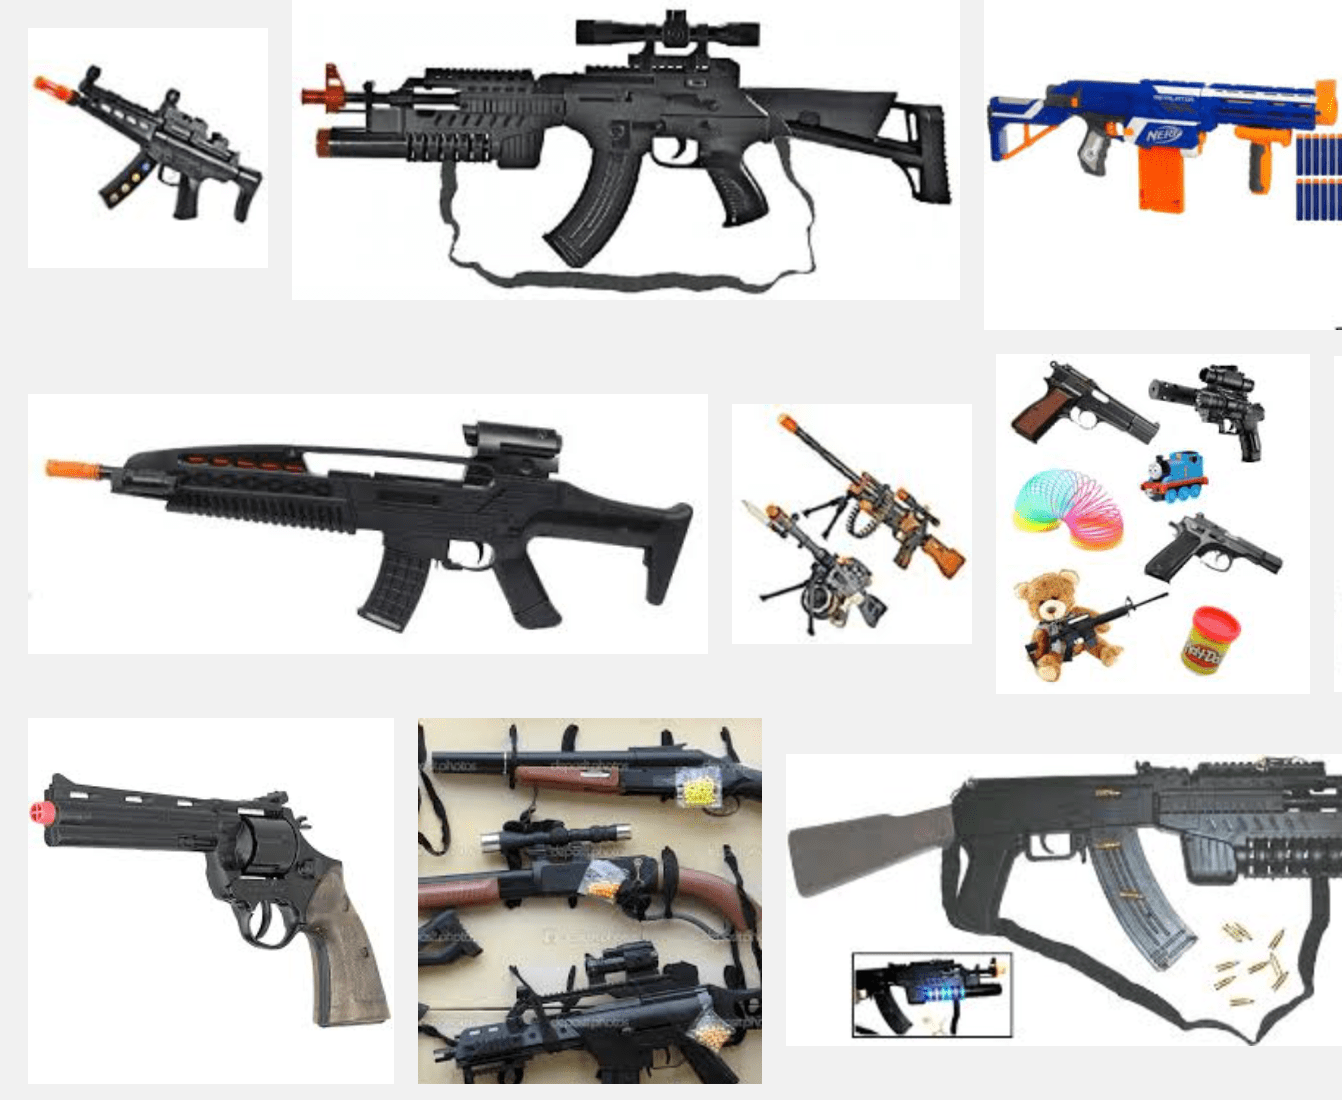Arma Falsa: (288, 6, 957, 273), (31, 417, 696, 633), (20, 757, 393, 1047), (984, 53, 1336, 213), (20, 62, 263, 236), (769, 413, 985, 582), (739, 495, 899, 651)
